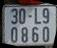-: (28, 14, 32, 18)
0: (18, 8, 26, 25), (10, 26, 18, 43), (42, 27, 50, 42)
3: (10, 9, 18, 25)
6: (31, 27, 39, 43)
8: (21, 27, 29, 43)
9: (42, 8, 50, 25)
L: (34, 8, 42, 25)
